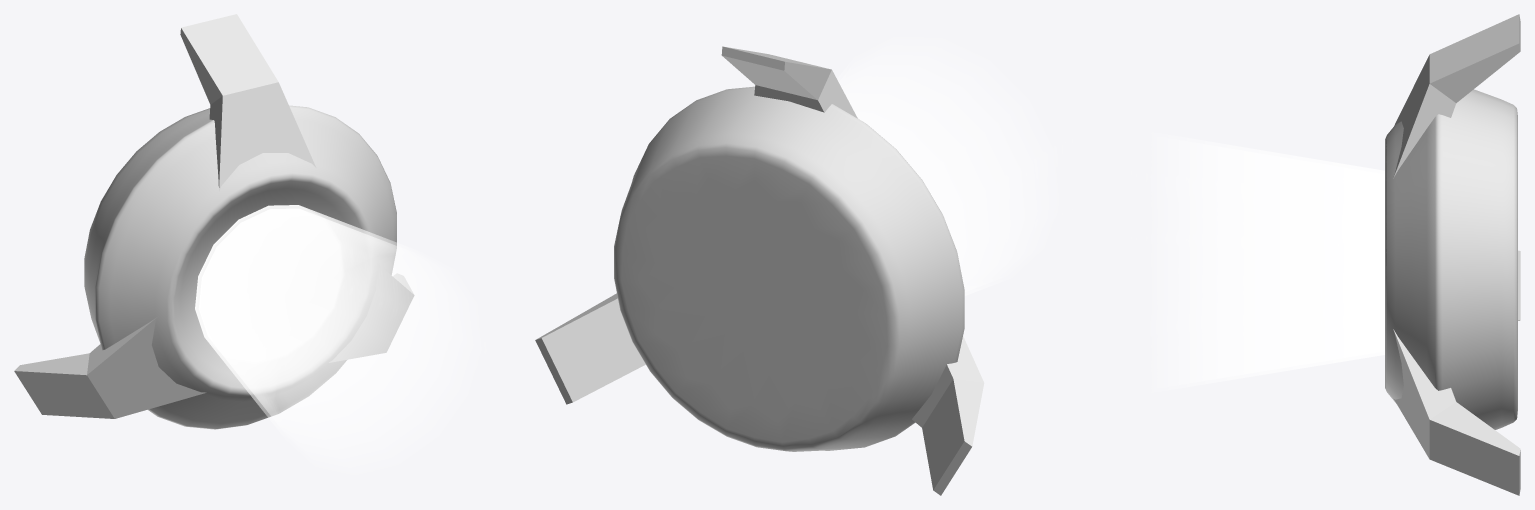
The model's file is sonar.glb.
3 renders of one model, left to right at view 1: azimuth 30°, elevation 25°; view 2: azimuth 150°, elevation 25°; view 3: azimuth 270°, elevation 25°, orthographic. The views are drawn at different scales.
Parts seen in each view (by area): view 1: Glow, Sonar, Cube; view 2: Sonar, Glow, Cube; view 3: Glow, Sonar, Cube.
Boxes of the visible parts, x1,y1,x2,y2 form: Glow: (195, 205, 473, 467); Sonar: (84, 105, 396, 429); Cube: (14, 14, 414, 418); Sonar: (614, 86, 964, 451); Glow: (837, 45, 1048, 295); Cube: (535, 46, 984, 495); Glow: (1156, 135, 1384, 389); Sonar: (1385, 89, 1517, 429); Cube: (1393, 14, 1520, 495).
Bounding box in the file's own units: 0.1207 × 0.1115 × 0.1009.
2 materials, 1 textured.
